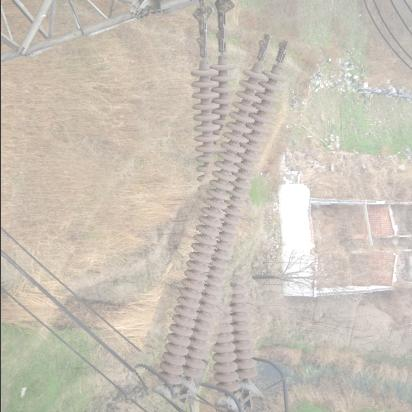insulator: (160, 31, 290, 406)
